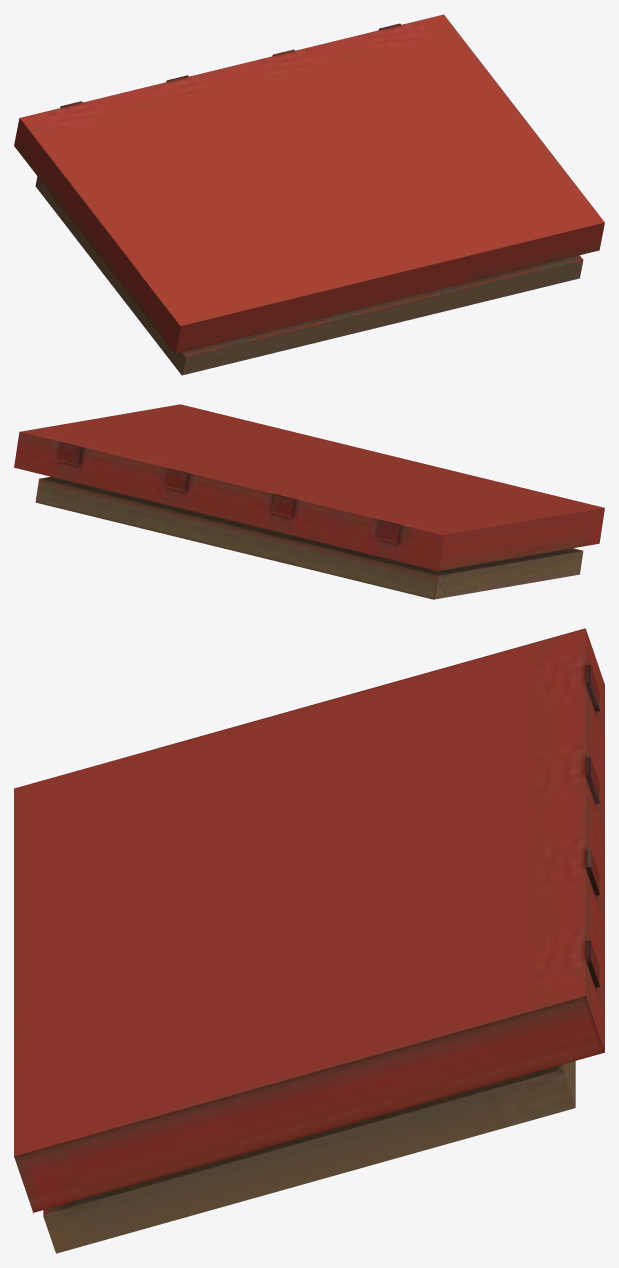
The model's file is tejado_volando.glb.
3 views of the same model, one above another, from view 1: azimuth 30°, elevation 25°; view 2: azimuth 150°, elevation 25°; view 3: azimuth 270°, elevation 25° (orthographic). The views are drawn at different scales.
Parts seen in each view (by area): view 1: tejado_volando; view 2: tejado_volando; view 3: tejado_volando.
Part boxes in pixels (left/top/right/bottom): tejado_volando: left=14, top=14, right=604, bottom=375; tejado_volando: left=14, top=404, right=604, bottom=599; tejado_volando: left=14, top=628, right=604, bottom=1253.
Bounding box in the file's own units: 1.6 × 0.5472 × 1.09.
1 material, 1 textured.
